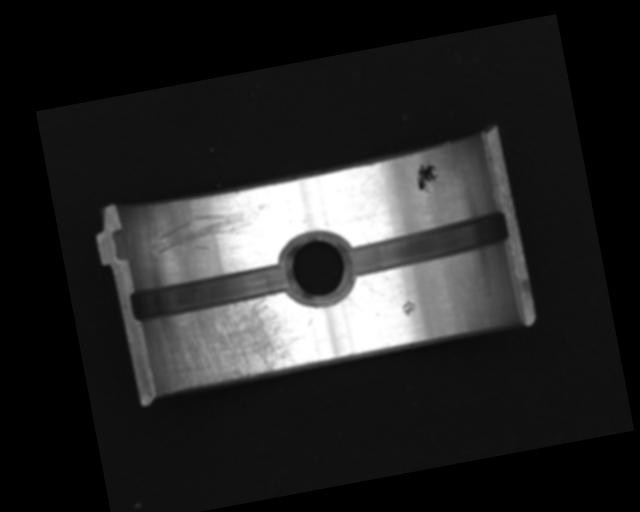blot: (413, 159, 442, 194)
bruise: (399, 298, 419, 318)
gap: (341, 212, 513, 277), (127, 259, 293, 324)
hole: (274, 224, 360, 310)
nick: (152, 200, 275, 260), (345, 291, 374, 323)
scratch: (147, 286, 323, 395)
